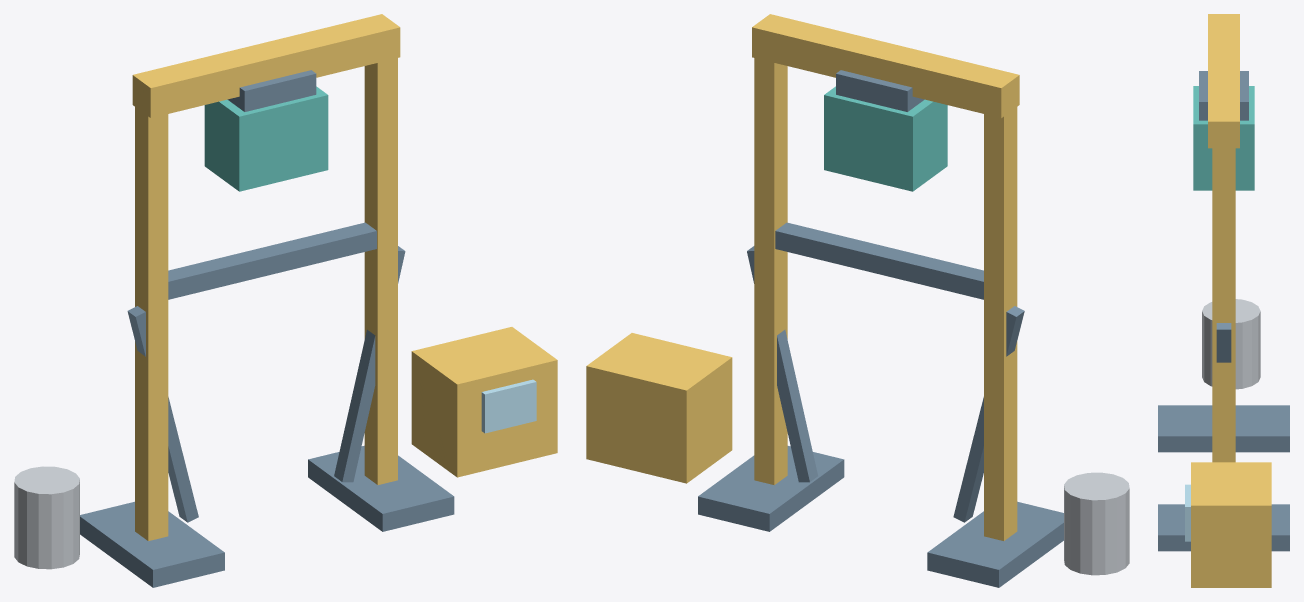
Rendered from rig.fbx.
3 renders of one model, left to right at view 1: azimuth 30°, elevation 25°; view 2: azimuth 150°, elevation 25°; view 3: azimuth 270°, elevation 25°, orthographic. The views are drawn at different scales.
Visible parts, largest first — view 1: cabin, post_l, post_r, beam_top, motor, pad_l, tank, beam_mid, pad_r, brace_r, cabin_win, brace_l (+1 smaller); view 2: cabin, post_l, post_r, beam_top, motor, pad_l, tank, beam_mid, pad_r, brace_r, brace_l, motor_top; view 3: cabin, post_r, pad_l, beam_top, tank, motor, pad_r, motor_top, brace_r, cabin_win.
Boxes of the visible parts, x1=… form: cabin: x1=411, y1=327, x2=557, y2=477; post_l: x1=135, y1=93, x2=168, y2=540; post_r: x1=364, y1=58, x2=397, y2=484; beam_top: x1=132, y1=14, x2=400, y2=117; motor: x1=204, y1=86, x2=328, y2=191; pad_l: x1=80, y1=501, x2=224, y2=587; tank: x1=14, y1=466, x2=79, y2=569; beam_mid: x1=168, y1=222, x2=376, y2=299; pad_r: x1=308, y1=445, x2=454, y2=531; brace_r: x1=334, y1=246, x2=405, y2=482; cabin_win: x1=481, y1=379, x2=536, y2=433; brace_l: x1=127, y1=306, x2=198, y2=522; cabin: x1=586, y1=333, x2=732, y2=483; post_l: x1=984, y1=84, x2=1017, y2=540; post_r: x1=754, y1=58, x2=787, y2=485; beam_top: x1=752, y1=14, x2=1019, y2=118; motor: x1=824, y1=86, x2=947, y2=191; pad_l: x1=927, y1=501, x2=1063, y2=587; tank: x1=1064, y1=472, x2=1129, y2=575; beam_mid: x1=775, y1=222, x2=983, y2=299; pad_r: x1=698, y1=446, x2=844, y2=531; brace_r: x1=747, y1=246, x2=817, y2=482; brace_l: x1=953, y1=306, x2=1024, y2=522; motor_top: x1=836, y1=70, x2=924, y2=111; cabin: x1=1191, y1=462, x2=1271, y2=587; post_r: x1=1212, y1=126, x2=1235, y2=462; pad_l: x1=1158, y1=405, x2=1289, y2=452; beam_top: x1=1208, y1=14, x2=1239, y2=148; tank: x1=1202, y1=299, x2=1260, y2=389; motor: x1=1193, y1=86, x2=1254, y2=190; pad_r: x1=1158, y1=504, x2=1289, y2=551; motor_top: x1=1199, y1=71, x2=1248, y2=120; brace_r: x1=1216, y1=323, x2=1231, y2=362; cabin_win: x1=1185, y1=484, x2=1190, y2=541.
Size of the model in its own units: 3.6 by 3.15 by 0.9.
